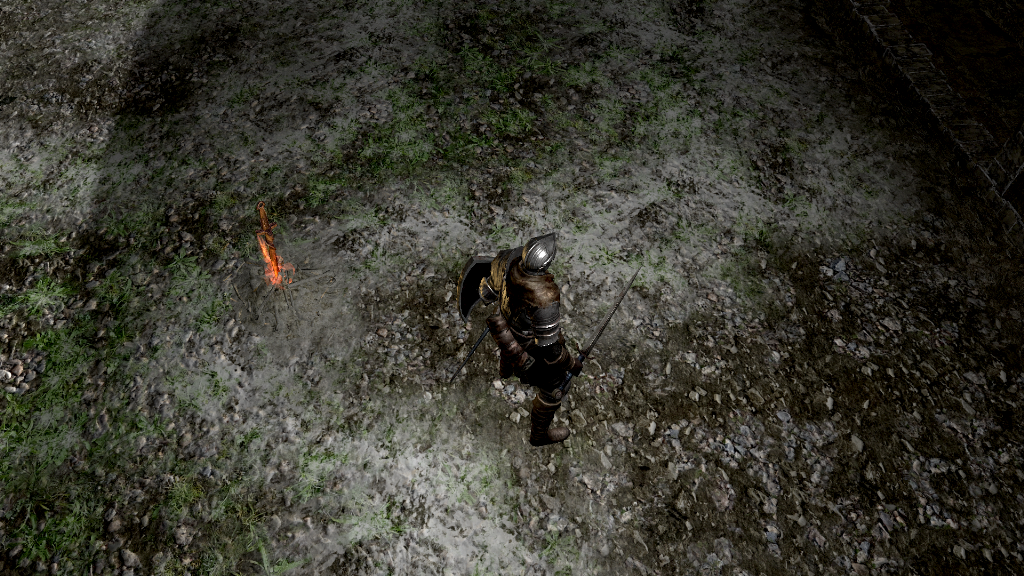bonfire: (244, 200, 302, 300)
player: (457, 232, 644, 447)
